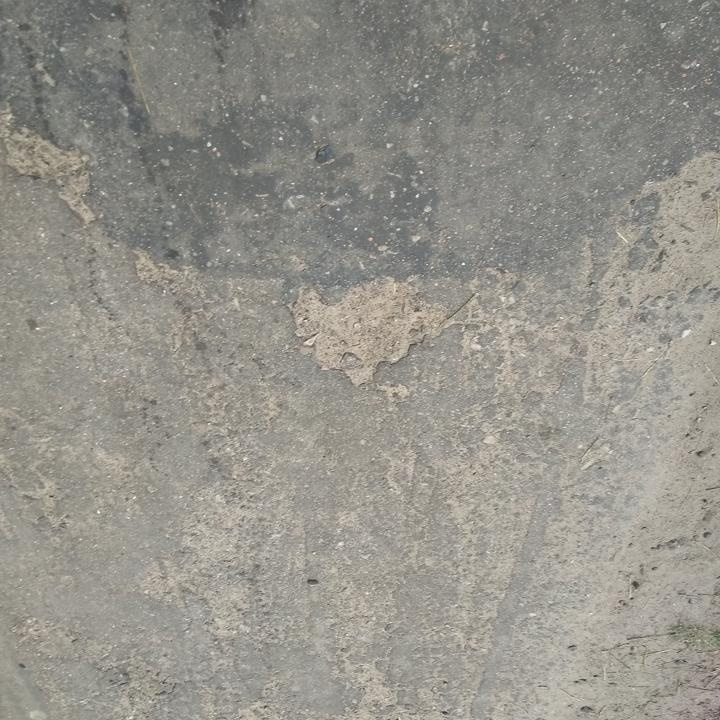pothole: (285, 276, 431, 393), (0, 130, 82, 179)
